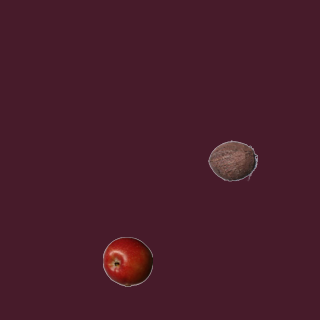Apple Braeburn: (102, 236, 152, 286)
Cocos: (207, 135, 257, 185)
